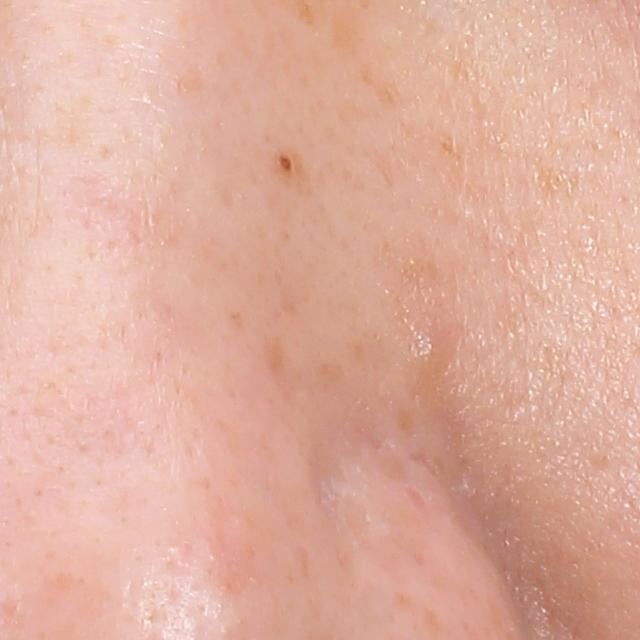comedo: (270, 145, 305, 181)
melasma: (262, 323, 304, 411), (359, 62, 411, 117), (332, 7, 371, 53)
